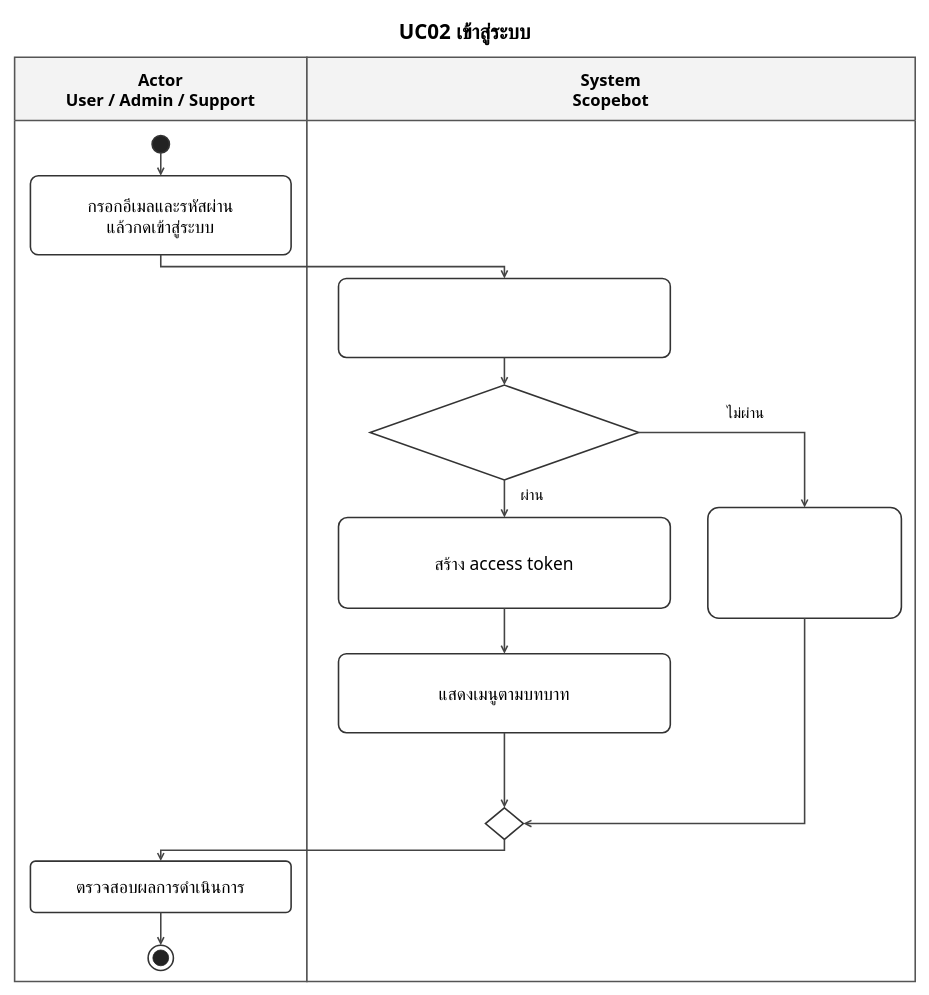
Image size: 929x995. Some labels were removed from this diagram. The shapes that lost their labels are listed below. From the top down, each one's centre as x and y in pixels, then its label:
the point at 504,317: ตรวจบัญชี รหัสผ่าน สถานะใช้งาน และการอนุมัติ
the point at 504,432: ผ่านเงื่อนไขทั้งหมด
the point at 804,562: แจ้งข้อมูลผิด ถูกระงับ หรือรออนุมัติ
